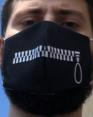with_mask: (2, 1, 93, 117)
